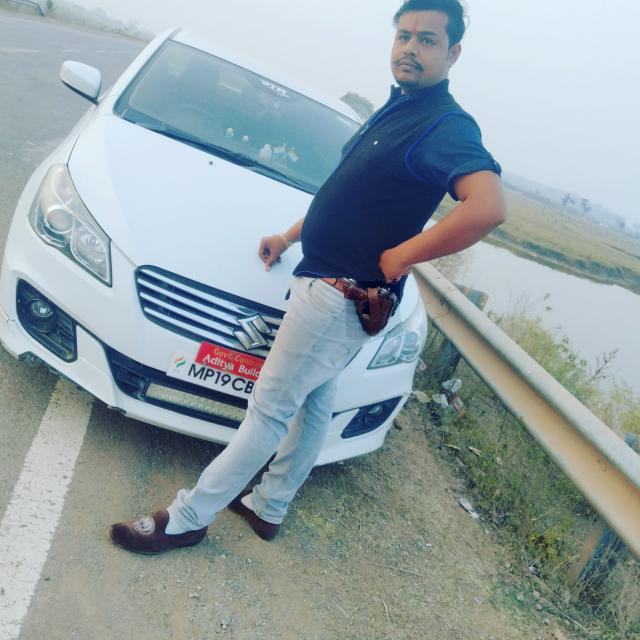handgun: (344, 280, 402, 338)
